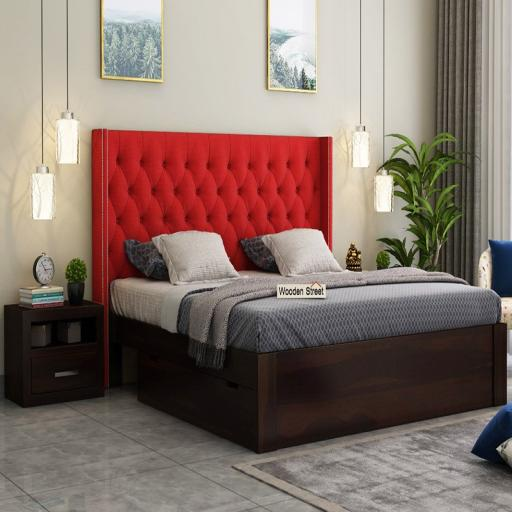bed: (92, 127, 507, 454)
sofa: (478, 239, 512, 347)
